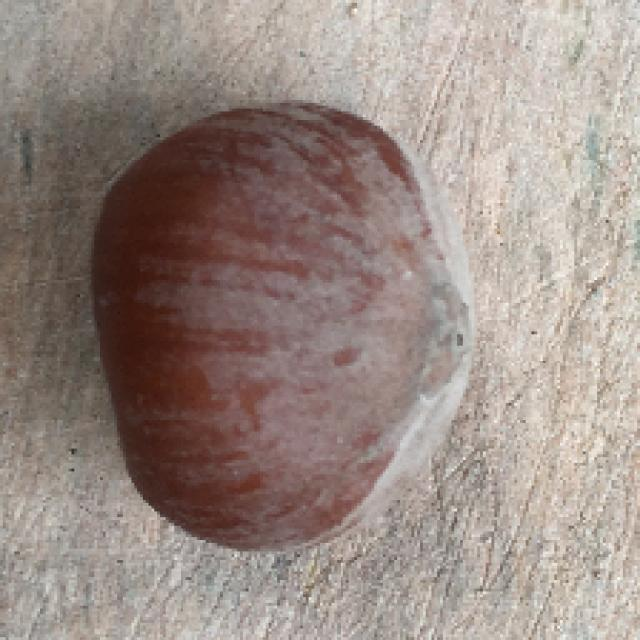qualityHazelnut: (78, 98, 479, 560)
